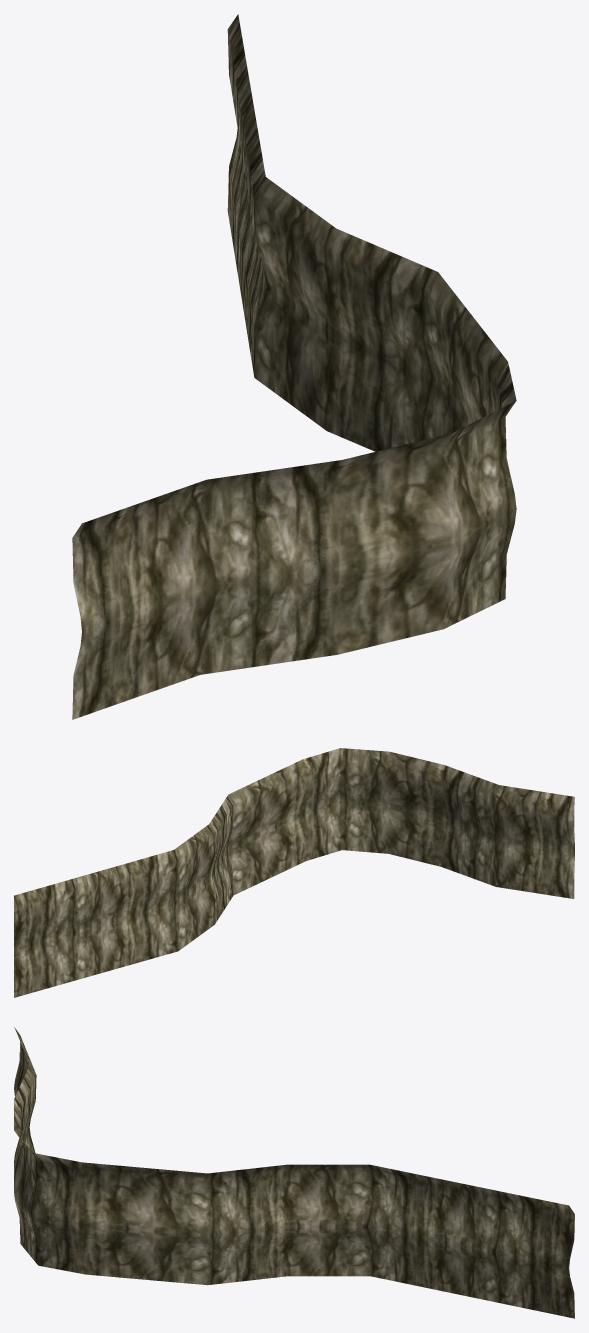
File: CB_NEWPLAYSURFACE_CB_PLAYSURFACE112.fbx
3 views of the same model, one above another, from view 1: azimuth 30°, elevation 25°; view 2: azimuth 150°, elevation 25°; view 3: azimuth 270°, elevation 25° (orthographic). The views are drawn at different scales.
Parts seen in each view (by area): view 1: CB_NEWPLAYSURFACE_CB_PLAYSURFACE112; view 2: CB_NEWPLAYSURFACE_CB_PLAYSURFACE112; view 3: CB_NEWPLAYSURFACE_CB_PLAYSURFACE112.
Part boxes in pixels (<box>): CB_NEWPLAYSURFACE_CB_PLAYSURFACE112: <box>72,14,516,719</box>; CB_NEWPLAYSURFACE_CB_PLAYSURFACE112: <box>14,748,574,997</box>; CB_NEWPLAYSURFACE_CB_PLAYSURFACE112: <box>14,1027,574,1318</box>.
Bounding box in the file's own units: 248103 × 73541 × 325996.
Materials: 1 (1 with a texture image).
